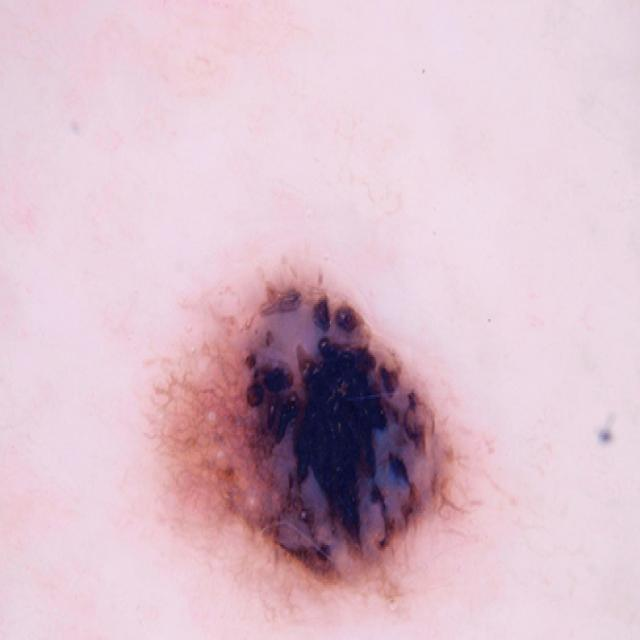Keratosis: (151, 208, 505, 599)
